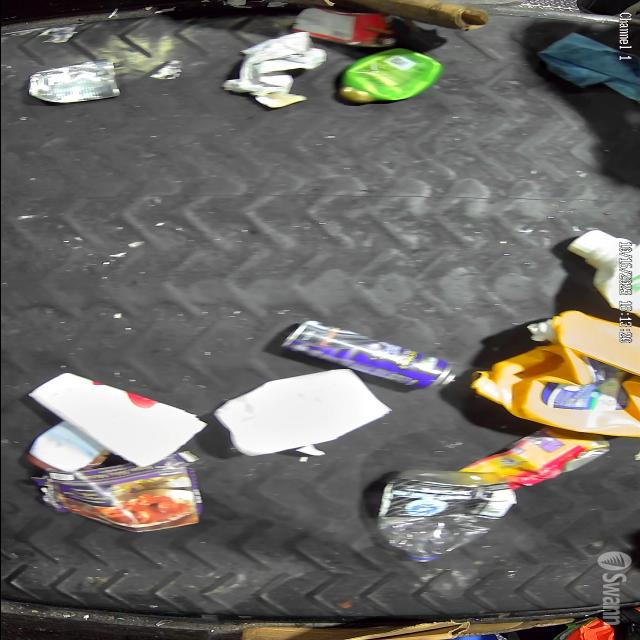can: (279, 320, 455, 388), (506, 430, 610, 472), (27, 61, 120, 102)
milk_jug: (565, 230, 640, 316)
non_white_jug: (468, 311, 640, 438)
plastic_bottle: (376, 468, 516, 562)
